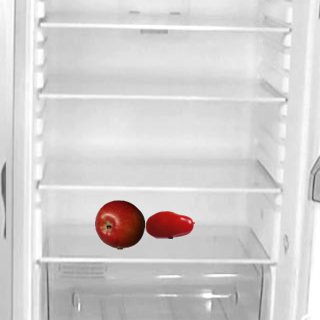Apple Braeburn: (94, 199, 144, 249)
Tomato 2: (144, 199, 194, 249)
